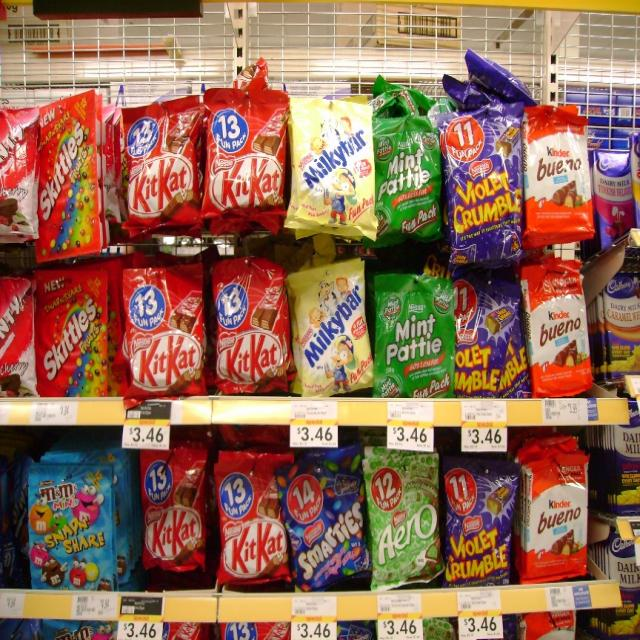q280: (109, 83, 206, 239), (204, 91, 286, 240), (123, 259, 214, 386), (217, 440, 289, 590), (218, 259, 292, 397), (131, 446, 208, 573)
